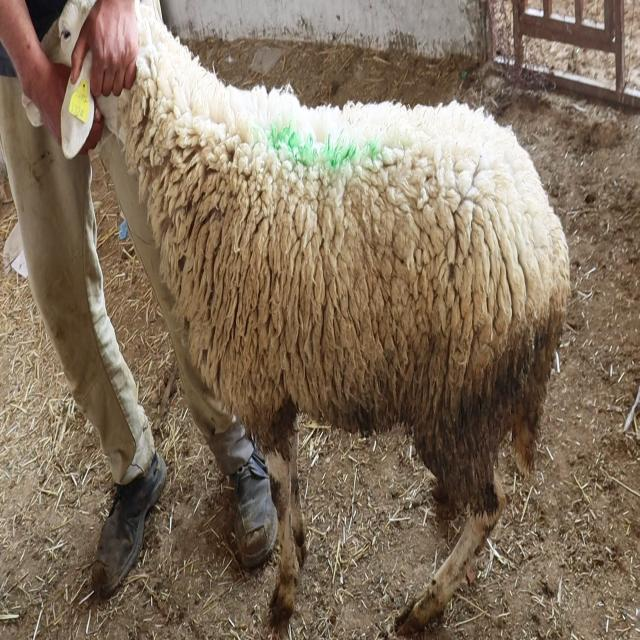Score_3: (95, 1, 569, 629)
